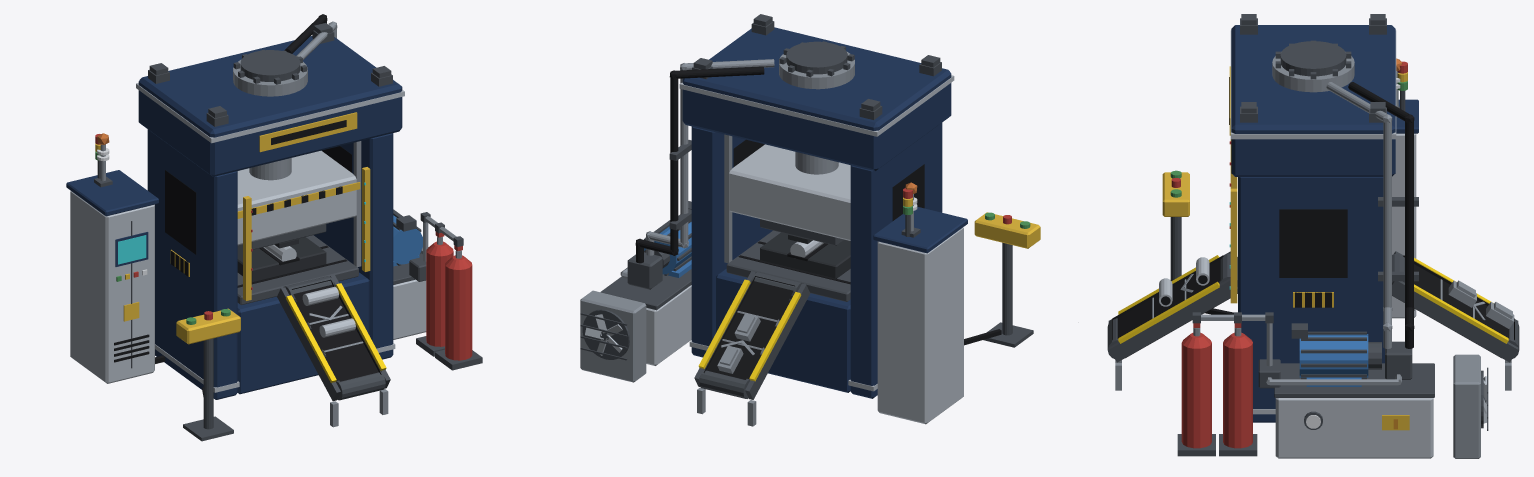
File: presse_lourde_t3.glb
3 views of the same model, side by side, from view 1: azimuth 30°, elevation 25°; view 2: azimuth 150°, elevation 25°; view 3: azimuth 270°, elevation 25° (orthographic). The views are drawn at different scales.
Parts seen in each view (by area): view 1: couronne.002, flasque_-1.002, armoire.008, pieces_acier_sombre.015, pieces_noir.015, flasque_1.002, coulisseau_gris_clair.002, sommier.002, pieces_jaune.012, pieces_acier.015, accumulateur_1.002, pieces_gris_clair.002 (+13 smaller); view 2: couronne.002, armoire.008, pieces_acier_sombre.015, flasque_-1.002, pieces_noir.015, coulisseau_gris_clair.002, flasque_1.002, pieces_acier.015, sommier.002, bache.002, armoire_toit.008, pieces_fonte.015 (+11 smaller); view 3: flasque_1.002, couronne.002, pieces_acier_sombre.015, pieces_noir.015, bache.002, pieces_acier.015, accumulateur_1.002, accumulateur_0.002, pieces_jaune.012, pieces_bleu.010, pieces_rive_t1.010, armoire.008 (+6 smaller).
Boxes of the visible parts, left/top/right/bottom form: couronne.002: left=138, top=36, right=402, bottom=176; flasque_-1.002: left=147, top=129, right=237, bottom=399; armoire.008: left=70, top=191, right=154, bottom=383; pieces_acier_sombre.015: left=94, top=23, right=482, bottom=441; pieces_noir.015: left=114, top=14, right=381, bottom=396; flasque_1.002: left=313, top=133, right=393, bottom=359; coulisseau_gris_clair.002: left=237, top=150, right=356, bottom=245; sommier.002: left=237, top=272, right=369, bottom=394; pieces_jaune.012: left=95, top=112, right=370, bottom=344; pieces_acier.015: left=100, top=21, right=461, bottom=427; accumulateur_1.002: left=445, top=264, right=472, bottom=360; pieces_gris_clair.002: left=136, top=83, right=404, bottom=392; couronne.002: left=682, top=27, right=951, bottom=171; armoire.008: left=877, top=227, right=963, bottom=424; pieces_acier_sombre.015: left=580, top=14, right=1033, bottom=399; flasque_-1.002: left=850, top=123, right=942, bottom=398; pieces_noir.015: left=635, top=66, right=1001, bottom=379; coulisseau_gris_clair.002: left=729, top=144, right=850, bottom=240; flasque_1.002: left=691, top=126, right=772, bottom=357; pieces_acier.015: left=580, top=59, right=913, bottom=426; sommier.002: left=716, top=269, right=850, bottom=392; bache.002: left=646, top=285, right=691, bottom=365; armoire_toit.008: left=873, top=206, right=967, bottom=253; pieces_fonte.015: left=760, top=232, right=850, bottom=278; flasque_1.002: left=1238, top=177, right=1384, bottom=422; couronne.002: left=1231, top=25, right=1395, bottom=176; pieces_acier_sombre.015: left=1107, top=14, right=1519, bottom=456; pieces_noir.015: left=1112, top=77, right=1514, bottom=358; bache.002: left=1275, top=398, right=1433, bottom=458; pieces_acier.015: left=1115, top=71, right=1511, bottom=458; accumulateur_1.002: left=1181, top=343, right=1211, bottom=448; accumulateur_0.002: left=1223, top=343, right=1252, bottom=448; pieces_jaune.012: left=1162, top=66, right=1409, bottom=430; pieces_bleu.010: left=1299, top=334, right=1368, bottom=386; pieces_rive_t1.010: left=1118, top=255, right=1508, bottom=343; armoire.008: left=1392, top=133, right=1416, bottom=318.
Size of the model in its own units: 2 by 1.72 by 2.
